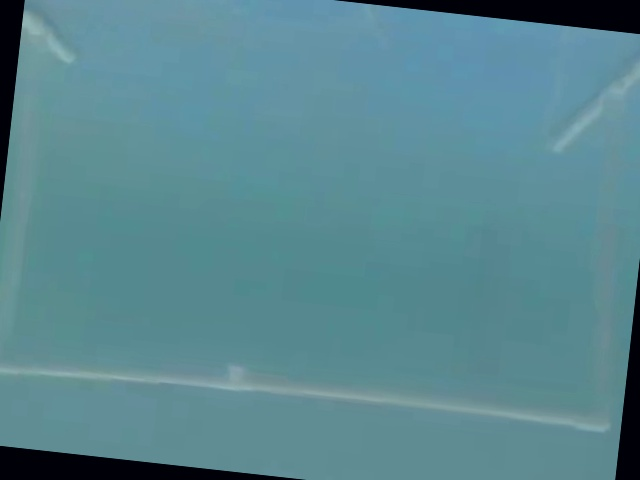gate: (7, 8, 635, 445)
